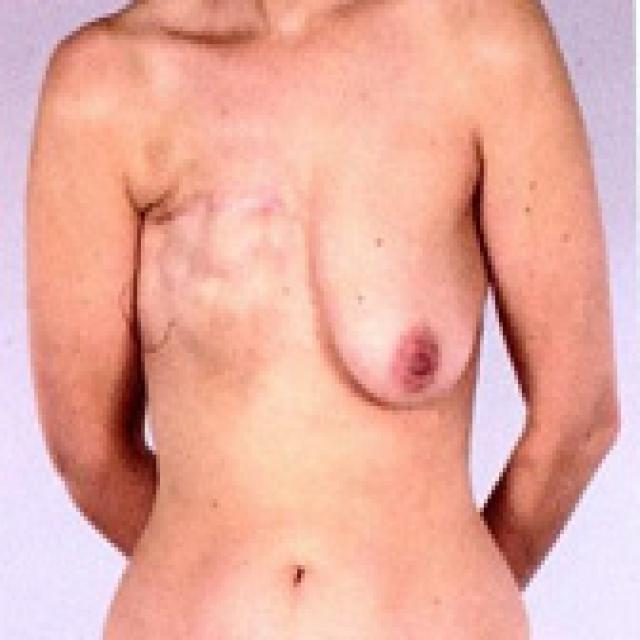Seno herido: (127, 133, 298, 435)
Seno ileso: (308, 134, 496, 436)
